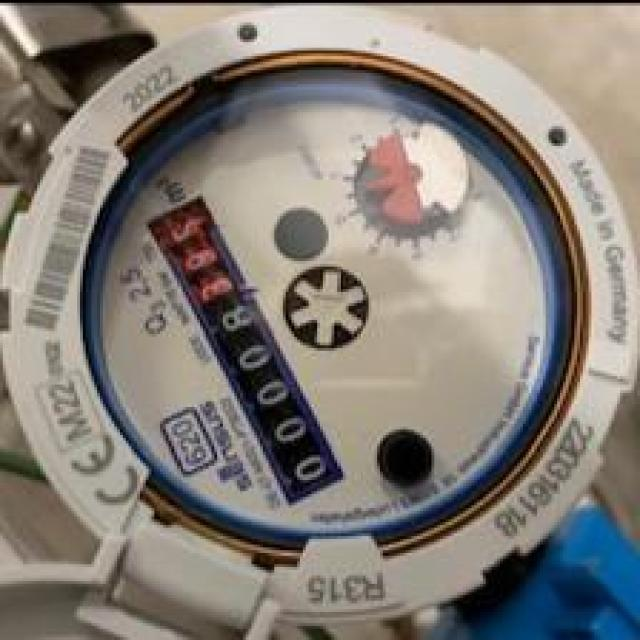gaz_meter: (8, 15, 637, 603)
indication: (145, 193, 348, 504)
